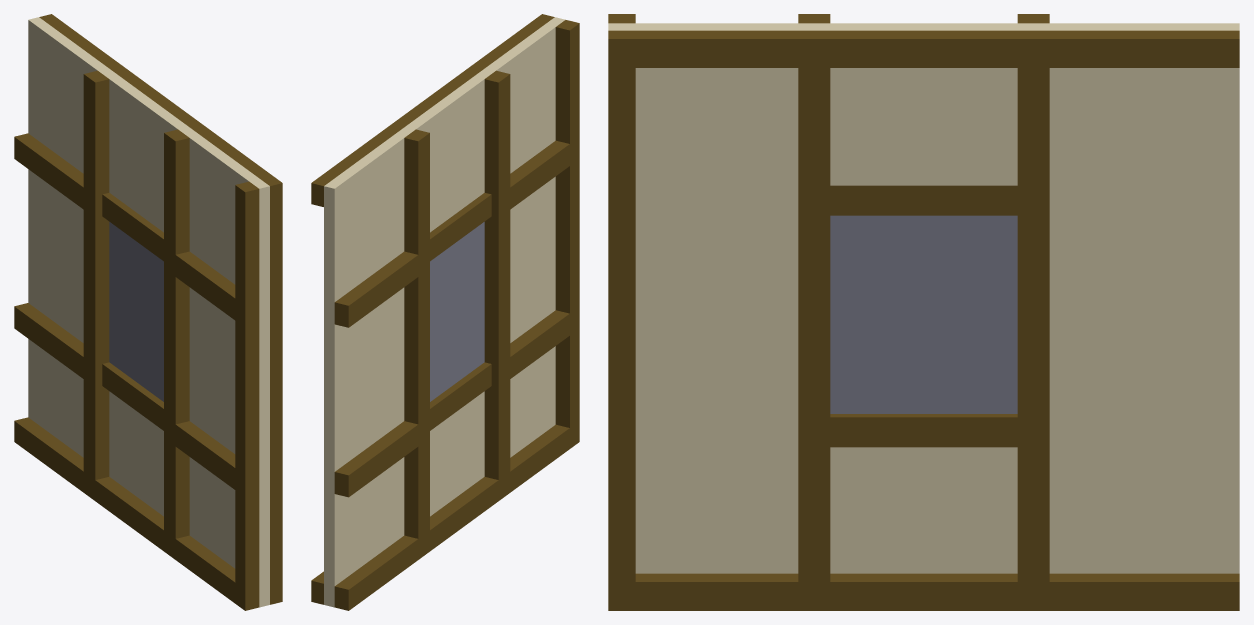
File: WindowWall.fbx
3 renders of one model, left to right at view 1: azimuth 30°, elevation 25°; view 2: azimuth 150°, elevation 25°; view 3: azimuth 270°, elevation 25°, orthographic. The views are drawn at different scales.
Visible parts, largest first — view 1: pCube132; view 2: pCube132; view 3: pCube132.
Boxes of the visible parts, x1=… form: pCube132: x1=14, y1=14, x2=282, y2=610; pCube132: x1=311, y1=14, x2=579, y2=610; pCube132: x1=608, y1=14, x2=1239, y2=610.
Bounding box in the file's own units: 0.2823 × 3 × 3.
